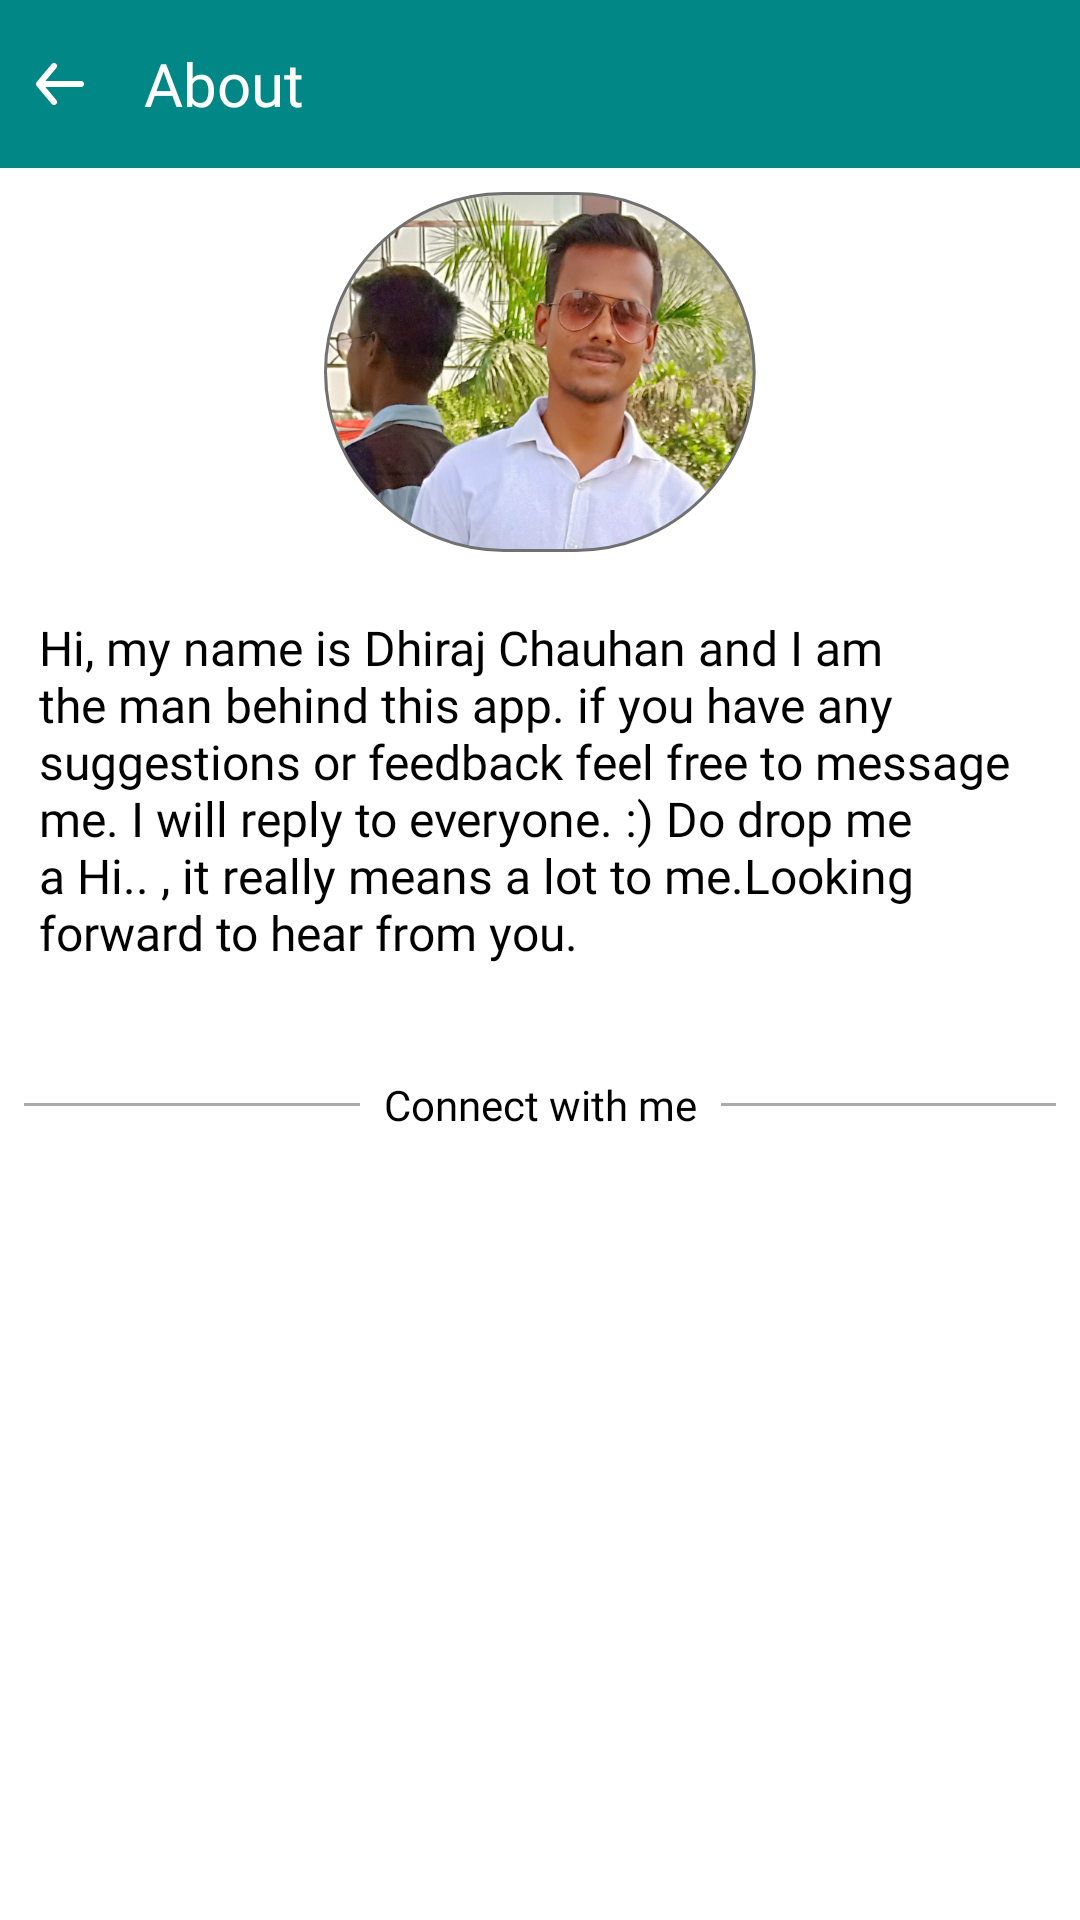

Icons on this 1080x1920 Android screen, each with its box as (left=x1, top=y1, right=x2, bottom=y2):
arrow back: (left=36, top=63, right=84, bottom=105)
